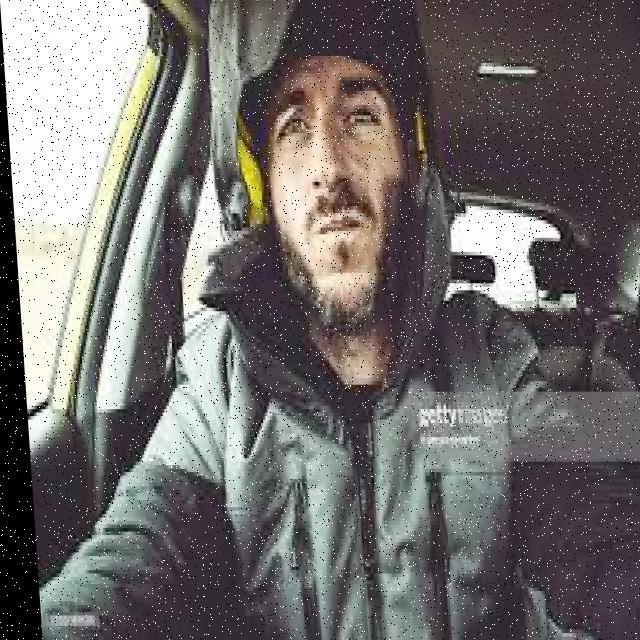noSeatbelt: (143, 258, 538, 640)
